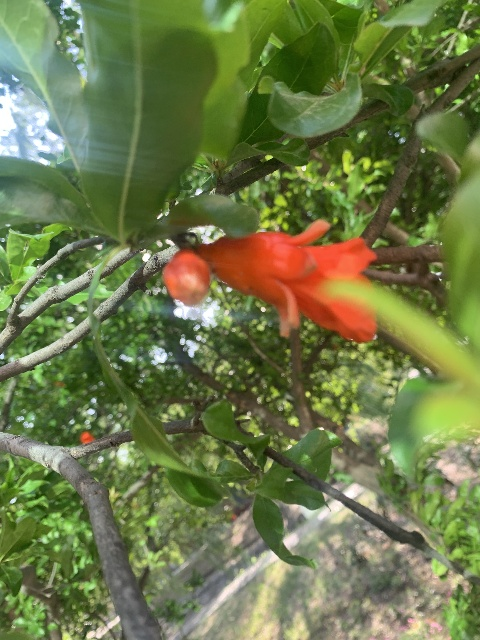bud: (163, 250, 209, 306)
flower: (194, 218, 379, 341)
